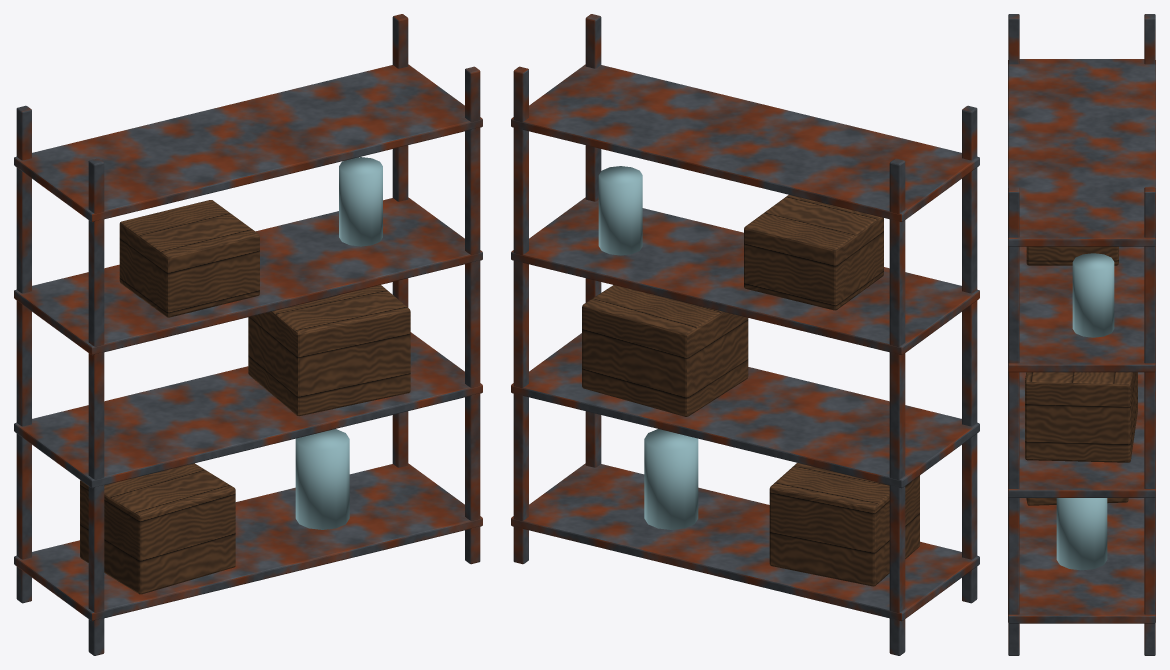
File: prop_shelving_rack.glb
The picture shows the model from 3 angles, left to right: view 1: azimuth 30°, elevation 25°; view 2: azimuth 150°, elevation 25°; view 3: azimuth 270°, elevation 25°; orthographic projection. The views are drawn at different scales.
Visible parts, largest first — view 1: Shelf_1.98, Shelf_0.78, Shelf_1.38, Shelf_0.18, Crate2, Crate1, BoxTop, Post_-0.888_-0.2944, Post_0.888_-0.2944, Post_-0.888_0.2944, Can1, Can2 (+1 smaller); view 2: Shelf_1.98, Shelf_1.38, Shelf_0.78, Shelf_0.18, Crate2, Crate1, BoxTop, Post_-0.888_0.2944, Post_0.888_0.2944, Post_-0.888_-0.2944, Can1, Can2 (+1 smaller); view 3: Shelf_1.98, Shelf_0.18, Shelf_1.38, Crate2, Shelf_0.78, Post_0.888_0.2944, Post_0.888_-0.2944, Can1, Can2, BoxTop, Post_-0.888_0.2944, Post_-0.888_-0.2944 (+1 smaller).
Part boxes in pixels (x1=…): Shelf_1.98: x1=14, y1=64, x2=482, y2=222; Shelf_0.78: x1=14, y1=332, x2=482, y2=488; Shelf_1.38: x1=14, y1=197, x2=482, y2=355; Shelf_0.18: x1=14, y1=463, x2=482, y2=621; Crate2: x1=248, y1=285, x2=410, y2=416; Crate1: x1=80, y1=463, x2=235, y2=594; BoxTop: x1=119, y1=200, x2=259, y2=317; Post_-0.888_-0.2944: x1=88, y1=158, x2=104, y2=655; Post_0.888_-0.2944: x1=465, y1=66, x2=480, y2=564; Post_-0.888_0.2944: x1=16, y1=105, x2=31, y2=603; Can1: x1=295, y1=429, x2=349, y2=529; Can2: x1=339, y1=157, x2=382, y2=246; Shelf_1.98: x1=511, y1=64, x2=979, y2=222; Shelf_1.38: x1=511, y1=197, x2=979, y2=355; Shelf_0.78: x1=511, y1=333, x2=979, y2=488; Shelf_0.18: x1=511, y1=463, x2=979, y2=621; Crate2: x1=582, y1=285, x2=748, y2=416; Crate1: x1=769, y1=463, x2=919, y2=586; BoxTop: x1=744, y1=195, x2=883, y2=310; Post_-0.888_0.2944: x1=889, y1=158, x2=905, y2=655; Post_0.888_0.2944: x1=513, y1=66, x2=528, y2=564; Post_-0.888_-0.2944: x1=962, y1=105, x2=977, y2=603; Can1: x1=644, y1=429, x2=698, y2=529; Can2: x1=598, y1=166, x2=642, y2=255; Shelf_1.98: x1=1008, y1=59, x2=1155, y2=246; Shelf_0.18: x1=1008, y1=497, x2=1155, y2=623; Shelf_1.38: x1=1008, y1=246, x2=1155, y2=372; Crate2: x1=1025, y1=372, x2=1137, y2=462; Shelf_0.78: x1=1008, y1=371, x2=1155, y2=497; Post_0.888_0.2944: x1=1144, y1=187, x2=1155, y2=655; Post_0.888_-0.2944: x1=1008, y1=187, x2=1019, y2=655; Can1: x1=1056, y1=498, x2=1107, y2=570; Can2: x1=1072, y1=253, x2=1114, y2=337; BoxTop: x1=1026, y1=246, x2=1118, y2=265; Post_-0.888_0.2944: x1=1144, y1=14, x2=1155, y2=64; Post_-0.888_-0.2944: x1=1008, y1=14, x2=1019, y2=64.
Bounding box in the file's own units: 1.85 × 2.22 × 0.64.
3 materials, 2 textured.
